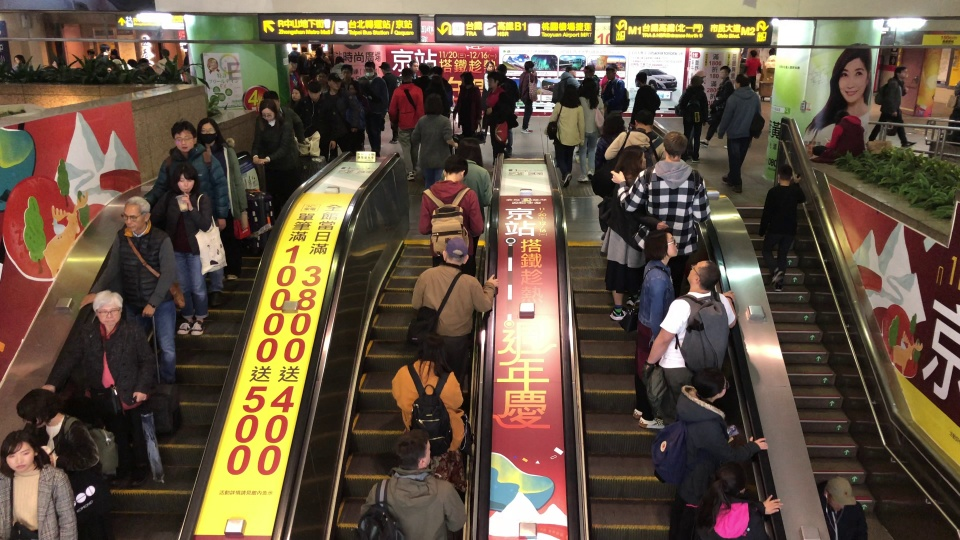person_head: (602, 147, 671, 324), (701, 466, 742, 531), (0, 429, 41, 477), (414, 334, 450, 383), (16, 388, 62, 426), (394, 429, 431, 473), (690, 366, 730, 406), (91, 288, 125, 333), (614, 142, 649, 184), (197, 117, 230, 157), (120, 196, 151, 238), (823, 478, 856, 515), (167, 162, 201, 197), (687, 259, 720, 292), (644, 228, 677, 261), (442, 234, 470, 270), (257, 99, 283, 135), (170, 121, 198, 154), (443, 152, 470, 183), (662, 131, 688, 163), (603, 111, 626, 147), (459, 137, 482, 164), (559, 83, 581, 109), (635, 104, 653, 134), (583, 78, 599, 110), (262, 90, 281, 112), (425, 93, 442, 116), (777, 163, 791, 185), (833, 109, 851, 125), (400, 65, 414, 84), (328, 72, 341, 91), (734, 74, 748, 89), (691, 69, 705, 84), (289, 84, 302, 100), (309, 84, 320, 102), (487, 72, 498, 90), (604, 65, 615, 83), (460, 71, 474, 85), (408, 57, 418, 76), (342, 65, 353, 82), (563, 64, 576, 78), (161, 48, 171, 66), (365, 60, 375, 78), (635, 70, 647, 85), (718, 66, 731, 79), (581, 66, 594, 78), (378, 58, 389, 72), (349, 82, 359, 97), (496, 63, 506, 78), (100, 43, 109, 59), (14, 54, 26, 65), (316, 71, 326, 84), (420, 62, 429, 76), (127, 58, 137, 70), (139, 58, 149, 70), (894, 66, 901, 83), (431, 65, 442, 75), (524, 61, 534, 72), (290, 60, 298, 73), (110, 49, 120, 59), (335, 54, 344, 65), (300, 44, 308, 54), (486, 60, 494, 70), (87, 49, 95, 58), (750, 49, 758, 58), (315, 48, 322, 58), (769, 47, 775, 55), (291, 44, 297, 51), (311, 42, 316, 49), (317, 42, 321, 50)
person_vbox: (39, 285, 155, 493), (78, 192, 177, 408), (142, 117, 232, 310), (609, 130, 709, 299), (642, 258, 738, 419), (675, 364, 770, 522), (408, 235, 499, 395), (9, 383, 103, 535), (390, 333, 471, 503), (149, 161, 215, 336), (365, 429, 468, 540), (632, 228, 678, 428), (198, 116, 250, 282), (0, 429, 79, 538), (418, 150, 483, 275), (250, 99, 301, 226), (691, 471, 784, 540), (760, 162, 807, 290), (717, 74, 764, 191), (593, 110, 630, 245), (409, 88, 458, 188), (604, 104, 665, 184), (441, 133, 491, 223), (544, 83, 585, 188), (390, 67, 424, 182), (817, 474, 870, 540), (699, 61, 738, 149), (676, 68, 711, 162), (480, 71, 513, 168), (452, 71, 484, 168), (262, 89, 307, 157), (359, 57, 388, 160), (868, 65, 903, 149), (577, 80, 605, 185), (303, 83, 336, 166), (824, 106, 866, 168), (321, 72, 350, 154), (630, 67, 662, 133), (497, 64, 519, 154), (348, 80, 373, 153), (379, 55, 399, 144), (425, 65, 455, 119), (517, 60, 538, 133), (289, 84, 314, 137), (941, 80, 960, 145), (601, 67, 624, 110), (415, 62, 431, 112), (744, 48, 763, 90), (481, 59, 497, 107), (599, 62, 623, 93), (289, 59, 308, 95), (558, 61, 581, 89), (154, 48, 175, 77), (341, 63, 359, 93), (308, 68, 329, 92), (310, 48, 330, 71), (110, 48, 129, 71), (138, 57, 156, 79), (11, 53, 27, 77), (588, 64, 601, 93), (330, 54, 346, 73), (763, 47, 776, 69), (97, 43, 110, 64), (125, 58, 138, 74), (183, 48, 190, 74), (300, 42, 311, 58), (85, 48, 96, 62), (289, 43, 300, 56), (310, 43, 316, 56)
